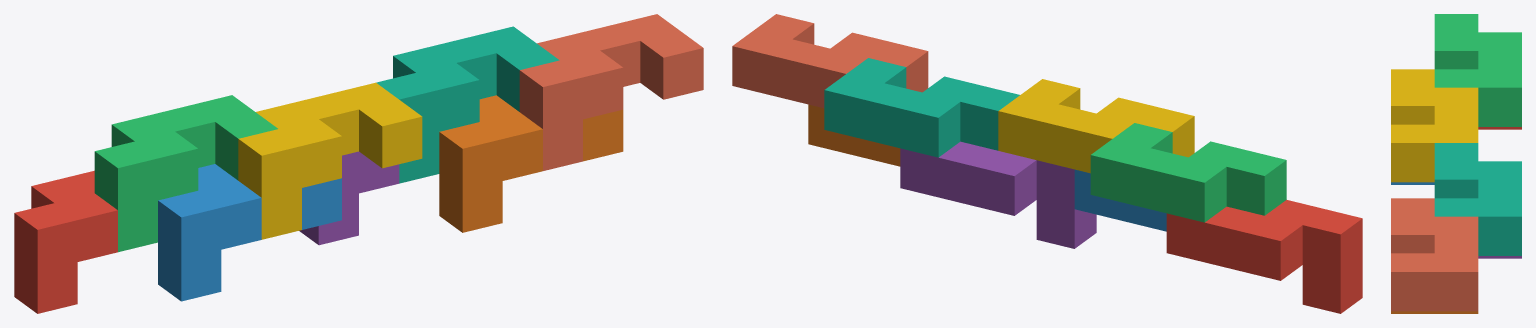
Rendered from tiling.obj.
The picture shows the model from 3 angles, left to right: view 1: azimuth 30°, elevation 25°; view 2: azimuth 150°, elevation 25°; view 3: azimuth 270°, elevation 25°; orthographic projection. The views are drawn at different scales.
Parts seen in each view (by area): view 1: copy_1_domain_4, copy_1_domain_8, copy_1_domain_3, copy_1_domain_7, copy_1_domain_6, copy_1_domain_2, copy_1_domain_1, copy_1_domain_5; view 2: copy_1_domain_1, copy_1_domain_3, copy_1_domain_7, copy_1_domain_5, copy_1_domain_8, copy_1_domain_4, copy_1_domain_6, copy_1_domain_2; view 3: copy_1_domain_8, copy_1_domain_4, copy_1_domain_3, copy_1_domain_7, copy_1_domain_6, copy_1_domain_1, copy_1_domain_2, copy_1_domain_5.
Part boxes in pixels (x1,y1,x2,y2): copy_1_domain_4: (238,82,422,239); copy_1_domain_8: (519,14,703,170); copy_1_domain_3: (94,95,277,252); copy_1_domain_7: (376,26,559,183); copy_1_domain_6: (439,95,623,232); copy_1_domain_2: (158,164,341,301); copy_1_domain_1: (14,170,117,313); copy_1_domain_5: (299,151,399,245); copy_1_domain_1: (1166,200,1362,313); copy_1_domain_3: (1090,123,1286,222); copy_1_domain_7: (824,58,1019,157); copy_1_domain_5: (900,141,1096,248); copy_1_domain_8: (732,14,928,108); copy_1_domain_4: (998,79,1194,173); copy_1_domain_6: (808,104,900,166); copy_1_domain_2: (1074,169,1166,231); copy_1_domain_8: (1391,198,1478,311); copy_1_domain_4: (1391,69,1478,182); copy_1_domain_3: (1434,14,1521,126); copy_1_domain_7: (1434,143,1521,255); copy_1_domain_6: (1391,311,1478,313); copy_1_domain_1: (1478,127,1521,129); copy_1_domain_2: (1391,182,1434,184); copy_1_domain_5: (1478,256,1521,258).
Size of the model in its own units: 16 by 3 by 3.
